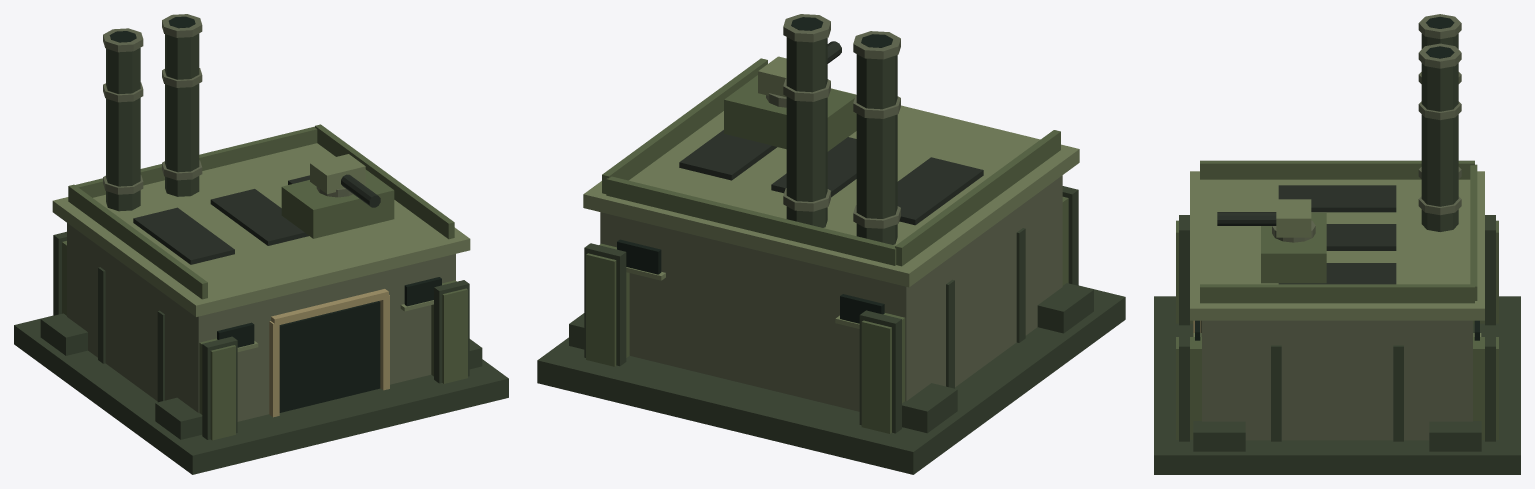
The model's file is garrison_1.obj.
3 views of the same model, side by side, from view 1: azimuth 30°, elevation 25°; view 2: azimuth 150°, elevation 25°; view 3: azimuth 270°, elevation 25° (orthographic). The views are drawn at different scales.
Visible parts, largest first — view 1: Fortification; view 2: Fortification; view 3: Fortification.
Part boxes in pixels (box(x1,y1,x2,y2)): Fortification: box(14, 14, 508, 474); Fortification: box(537, 14, 1125, 474); Fortification: box(1154, 14, 1520, 474).
Bounding box in the file's own units: 8.17 × 7.88 × 7.98.
Materials: 1 (1 with a texture image).
